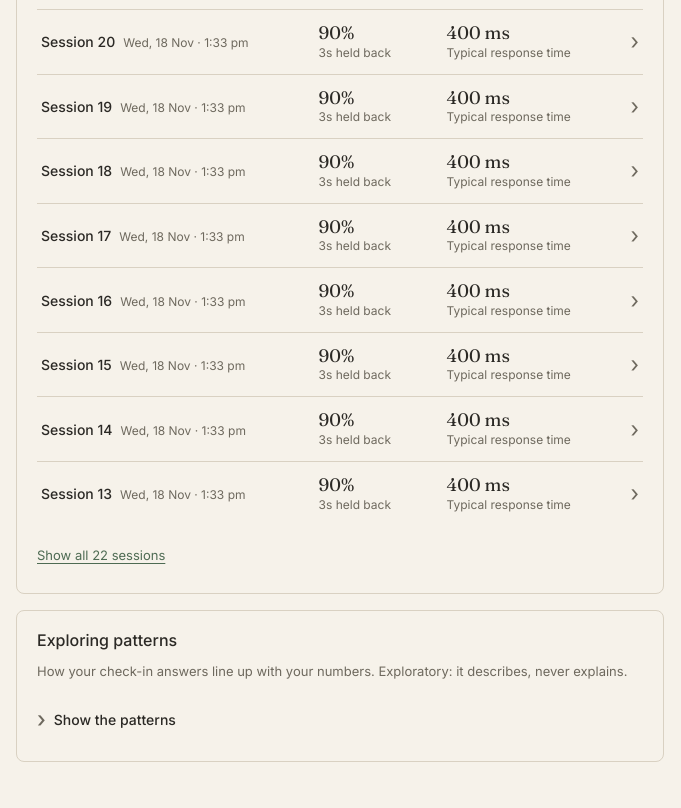
Test: Progress screen › keeps Exploring patterns collapsed until opened
The image size is (681, 808).
(page scrolled)
Click the heading "Show the patterns" at (115, 719), box [54,710,176,728]
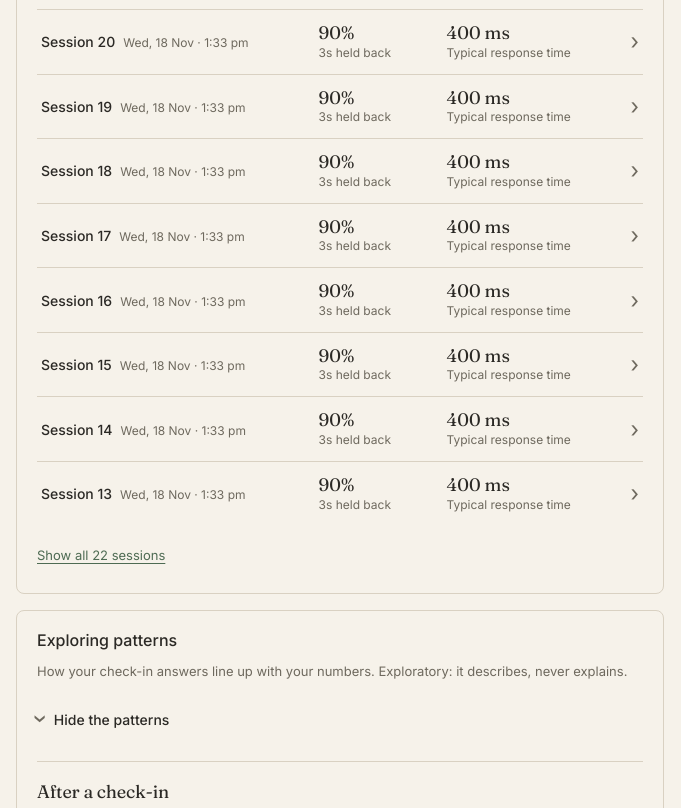
Now the heading "Hide the patterns" is shown, box [54,710,169,728]
